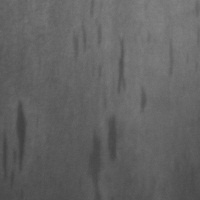inclusion: (9, 93, 33, 176), (65, 18, 108, 61), (83, 126, 108, 199), (109, 34, 133, 98), (104, 112, 127, 164), (160, 32, 181, 83), (132, 80, 155, 117)
